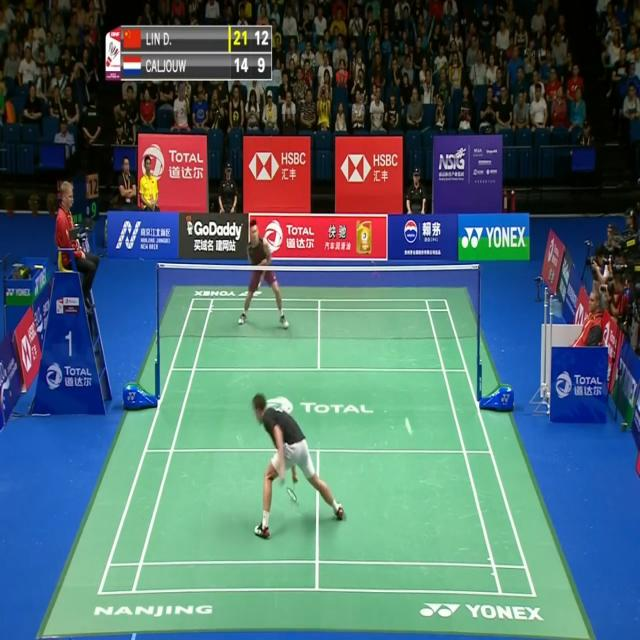Player1: (241, 386, 347, 546)
Player2: (232, 219, 292, 341)
